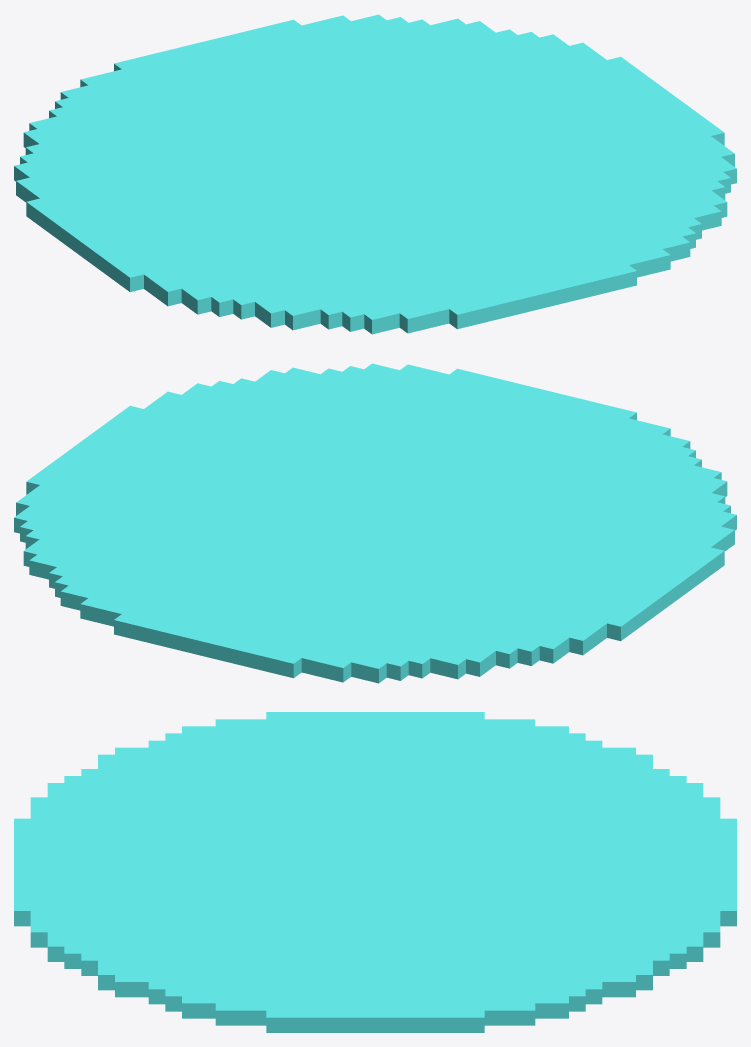
Rendered from SkyBall.obj.
3 renders of one model, top to bottom at view 1: azimuth 30°, elevation 25°; view 2: azimuth 150°, elevation 25°; view 3: azimuth 270°, elevation 25°, orthographic. The views are drawn at different scales.
Bounding box in the file's own units: 43 × 1 × 43.
Materials: 1 (1 with a texture image).
